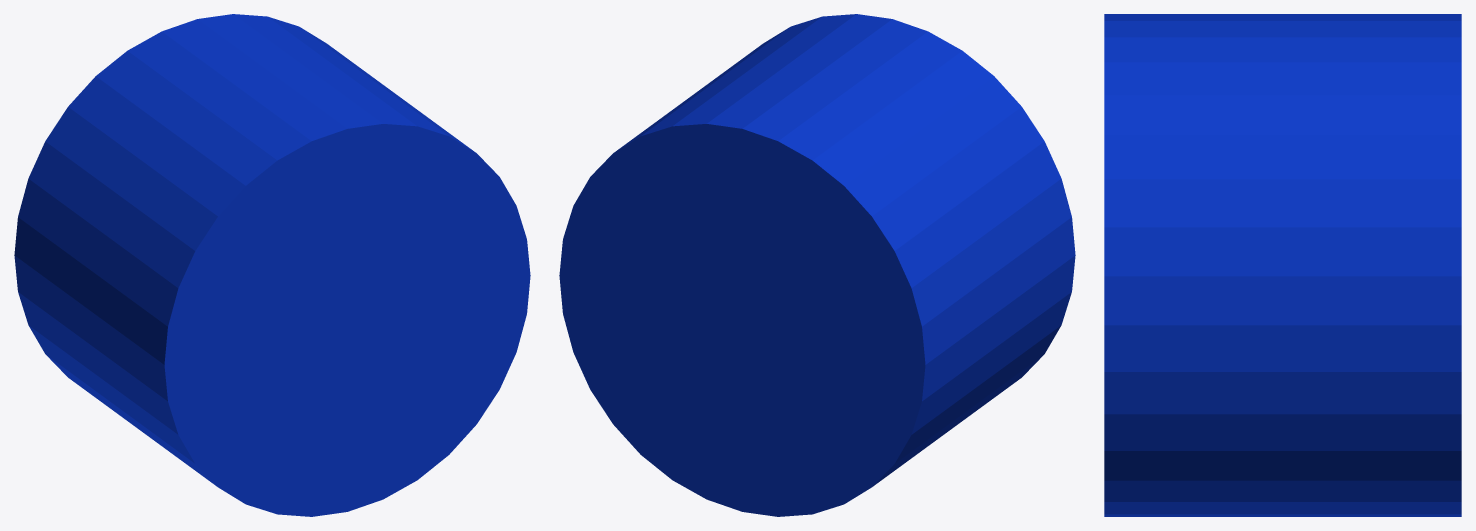
The model's file is tesla_bala.obj.
The picture shows the model from 3 angles, left to right: view 1: azimuth 30°, elevation 25°; view 2: azimuth 150°, elevation 25°; view 3: azimuth 270°, elevation 25°; orthographic projection. The views are drawn at different scales.
Visible parts, largest first — view 1: Cylinder; view 2: Cylinder; view 3: Cylinder.
Boxes of the visible parts, x1,y1,x2,y2 form: Cylinder: (14,14,530,516); Cylinder: (559,14,1075,516); Cylinder: (1104,14,1461,516).
Bounding box in the file's own units: 2 × 2 × 1.42.
